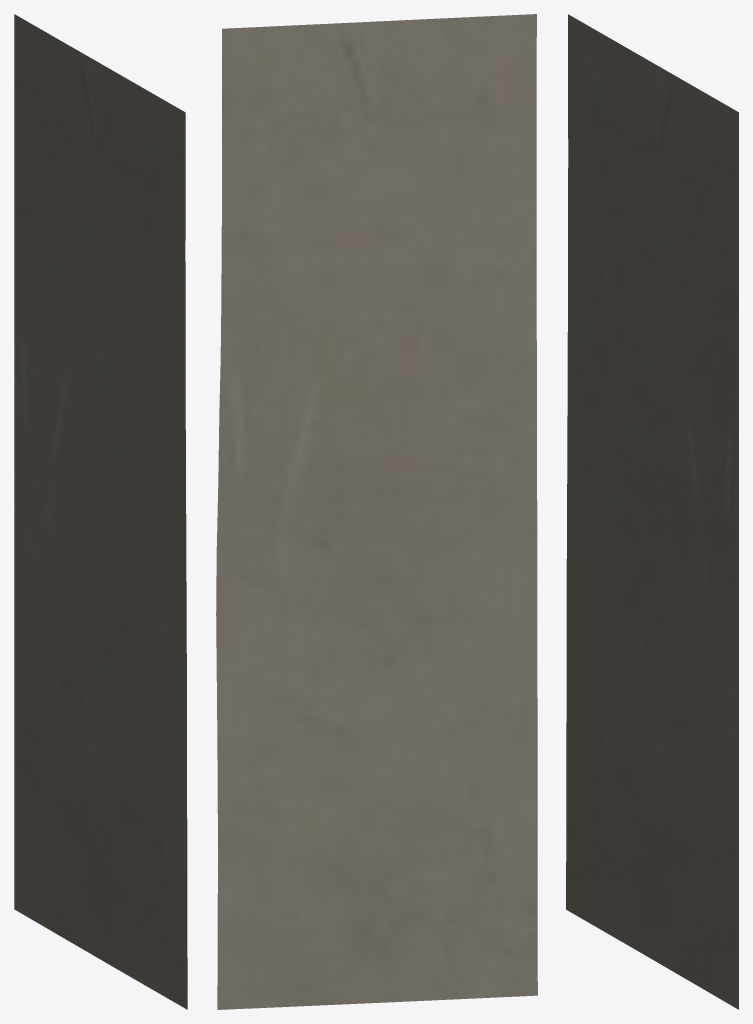
3 renders of one model, left to right at view 1: azimuth 90°, elevation 25°; view 2: azimuth 150°, elevation 25°; view 3: azimuth 270°, elevation 25°, orthographic. The views are drawn at different scales.
Bounding box in the file's own units: 0.5293 × 2.19 × 0.3831.
Materials: 1 (1 with a texture image).
